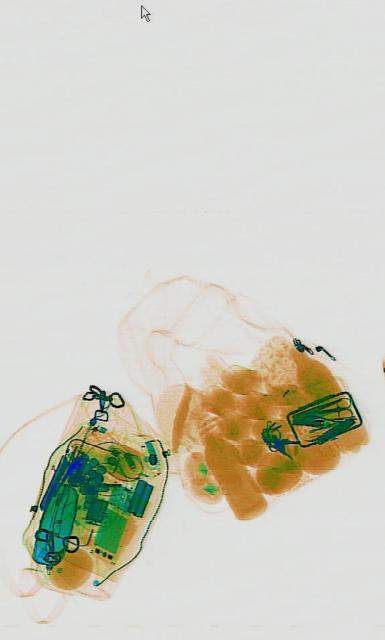Scissors: (310, 394, 352, 426)
